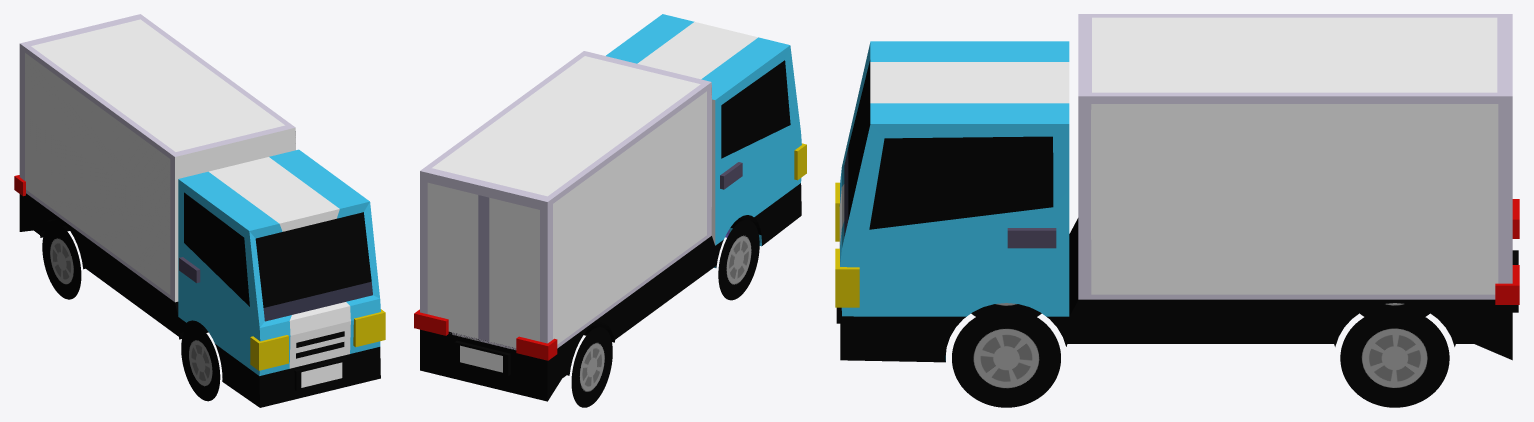
Rendered from Truk_1_Putih_D.fbx.
The picture shows the model from 3 angles, left to right: view 1: azimuth 30°, elevation 25°; view 2: azimuth 150°, elevation 25°; view 3: azimuth 270°, elevation 25°; orthographic projection. The views are drawn at different scales.
Parts seen in each view (by area): view 1: Mobil6.004; view 2: Mobil6.004; view 3: Mobil6.004.
Boxes of the visible parts, bbox=[...] form: Mobil6.004: bbox=[14, 14, 385, 407]; Mobil6.004: bbox=[414, 14, 806, 407]; Mobil6.004: bbox=[835, 14, 1519, 407].
Bounding box in the file's own units: 425 × 705 × 1403.
6 materials, 4 textured.
